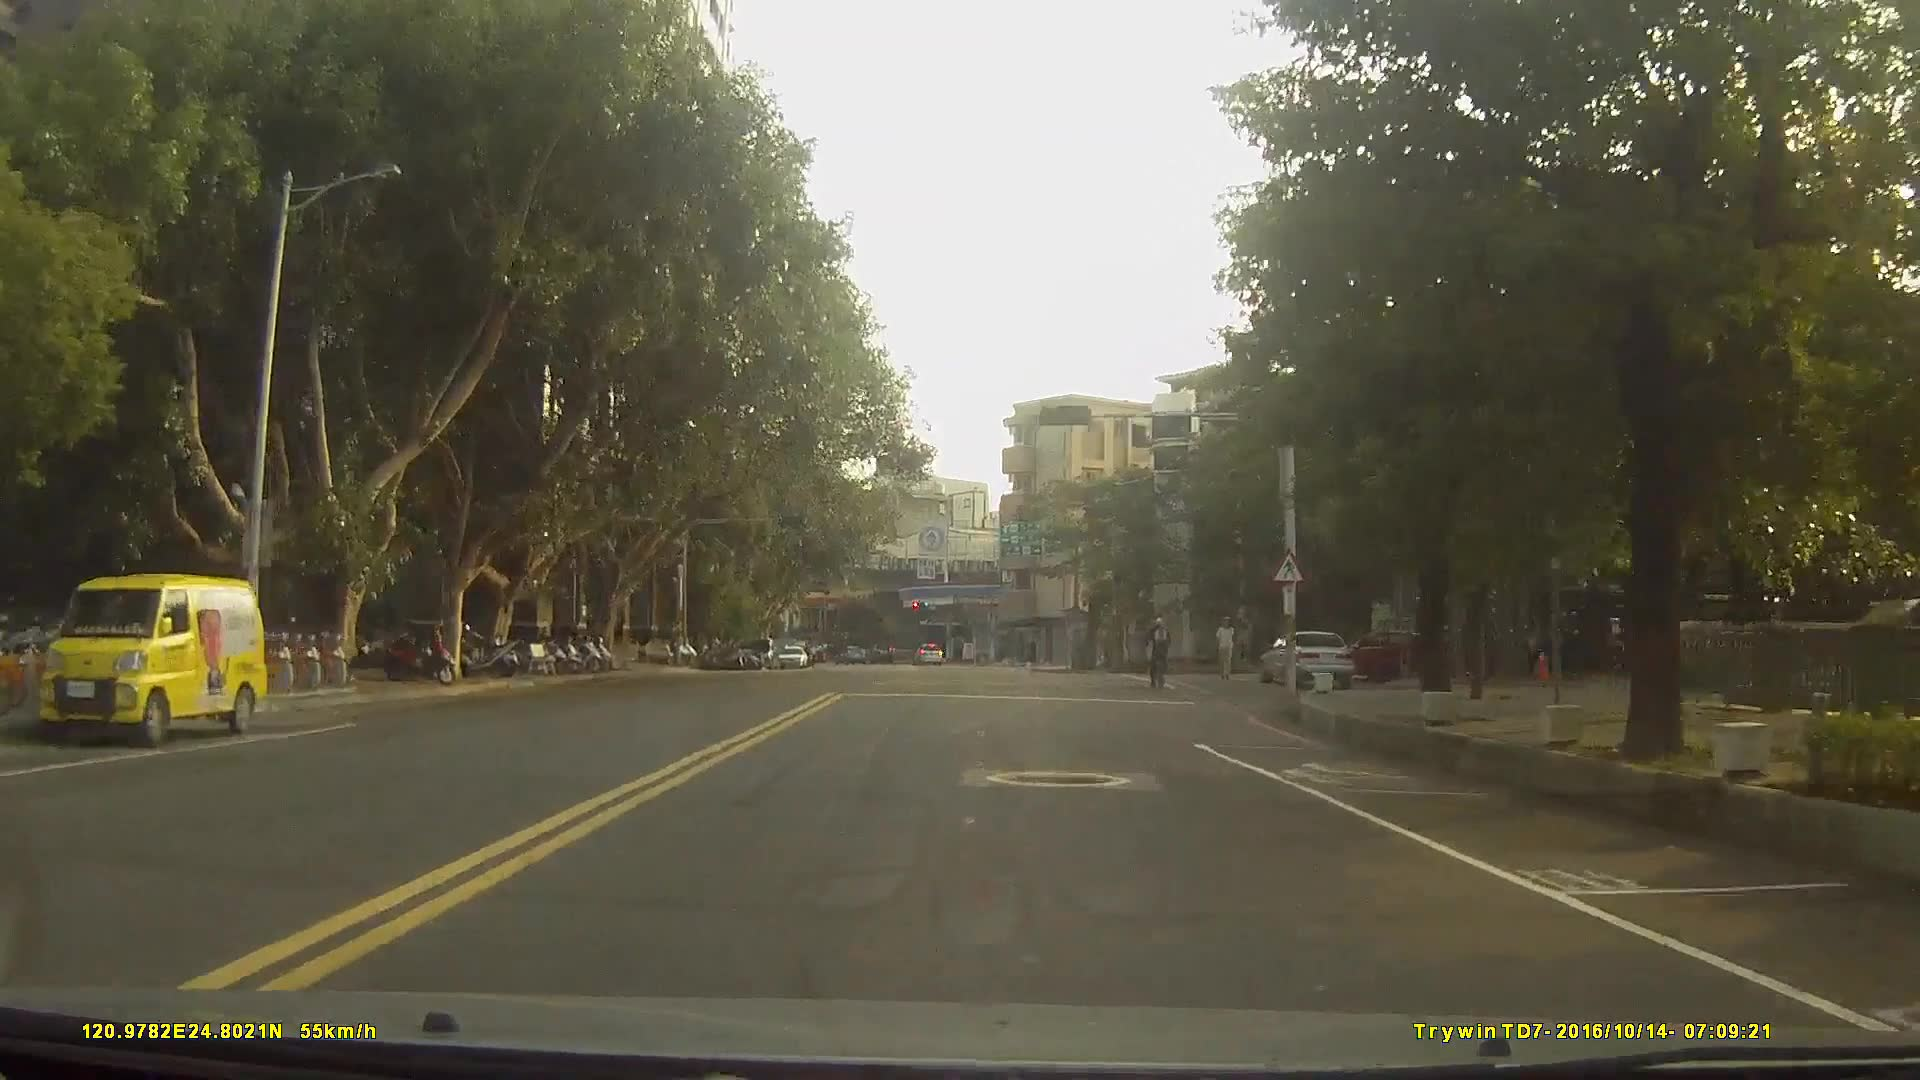pedestrian: (1214, 613, 1243, 685)
rider: (1148, 617, 1177, 691)
vehicle: (1327, 625, 1431, 684), (1259, 629, 1355, 689), (911, 640, 943, 664), (776, 643, 807, 666)
